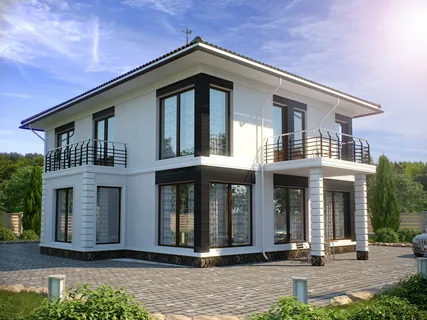private_hause: (43, 65, 380, 262)
